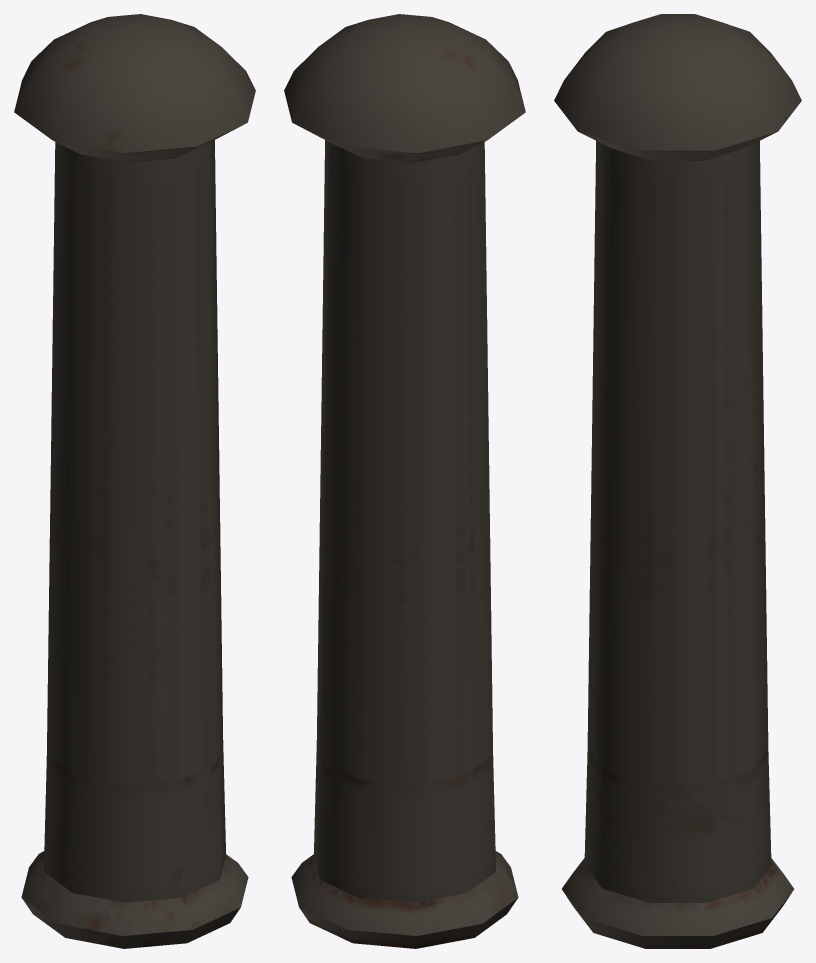
File: prop_bollard.glb
3 views of the same model, side by side, from view 1: azimuth 30°, elevation 25°; view 2: azimuth 150°, elevation 25°; view 3: azimuth 270°, elevation 25° (orthographic).
Parts seen in each view (by area): view 1: Prop_Bollard; view 2: Prop_Bollard; view 3: Prop_Bollard.
Boxes of the visible parts, left/top/right/bottom form: Prop_Bollard: left=14, top=14, right=255, bottom=948; Prop_Bollard: left=284, top=14, right=525, bottom=948; Prop_Bollard: left=554, top=14, right=801, bottom=948.
Bounding box in the file's own units: 0.2163 × 0.8918 × 0.2274.
1 material, 1 textured.
